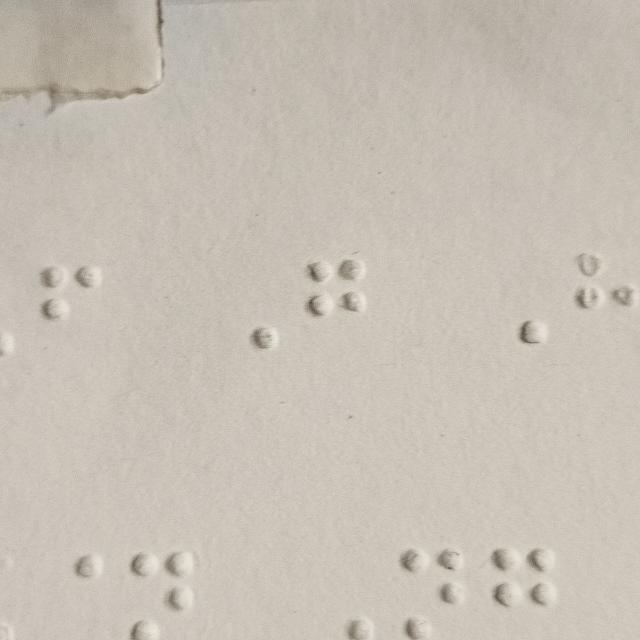capital_sign: (482, 250, 548, 348), (215, 257, 281, 354), (311, 543, 377, 640)
dot_4: (39, 543, 105, 640)
letter_F: (37, 259, 102, 356)
letter_G: (489, 543, 560, 640), (304, 256, 370, 353)
letter_H: (573, 250, 639, 348)
letter_N: (400, 542, 466, 639)
letter_n: (132, 549, 197, 640)
